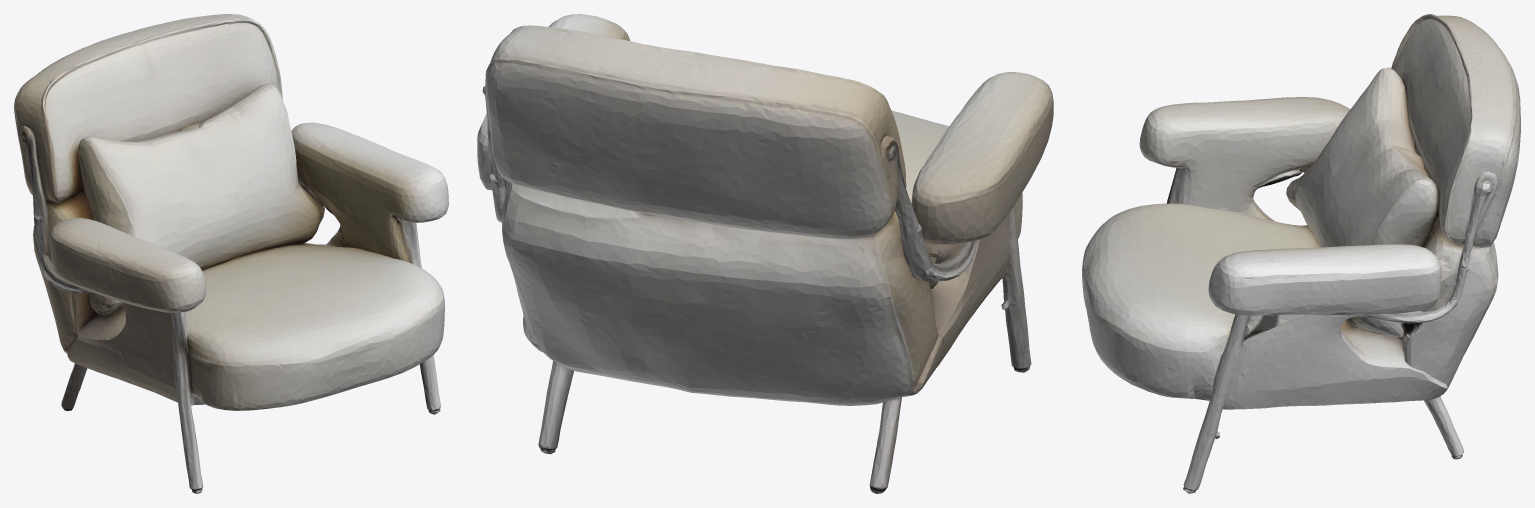
The model's file is ast_d83b2f2061bc.glb.
3 views of the same model, side by side, from view 1: azimuth 30°, elevation 25°; view 2: azimuth 150°, elevation 25°; view 3: azimuth 270°, elevation 25° (orthographic). The views are drawn at different scales.
Parts seen in each view (by area): view 1: geometry_0; view 2: geometry_0; view 3: geometry_0.
Boxes of the visible parts, x1=… form: geometry_0: x1=14, y1=14, x2=448, y2=493; geometry_0: x1=477, y1=14, x2=1053, y2=493; geometry_0: x1=1082, y1=14, x2=1520, y2=493.
Bounding box in the file's own units: 0.9638 × 0.8259 × 0.9579.
Materials: 1 (1 with a texture image).
